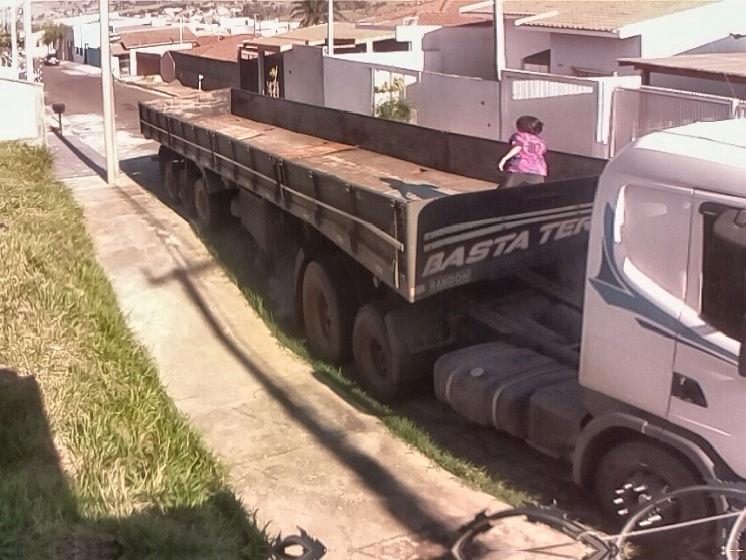person: (490, 114, 553, 192)
